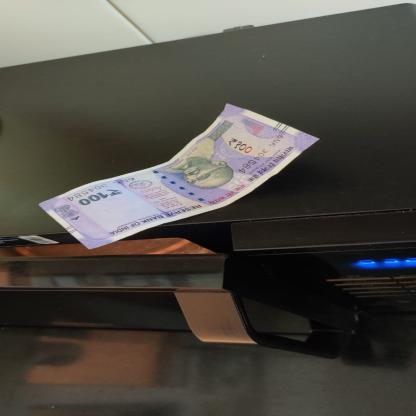New100Front: (35, 102, 319, 250)
